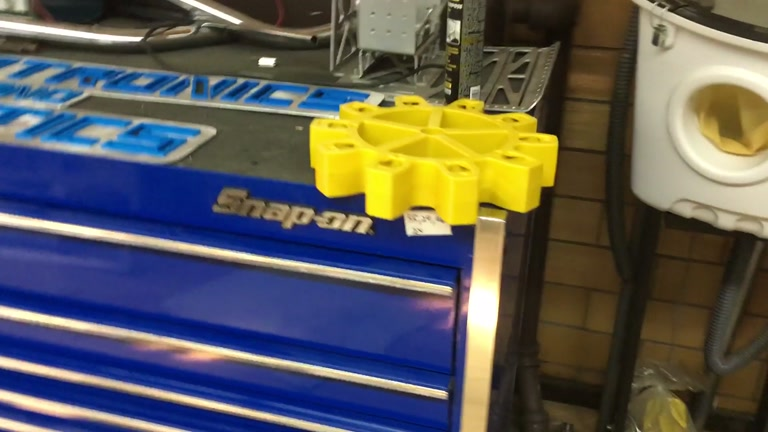gear: (310, 93, 558, 226)
